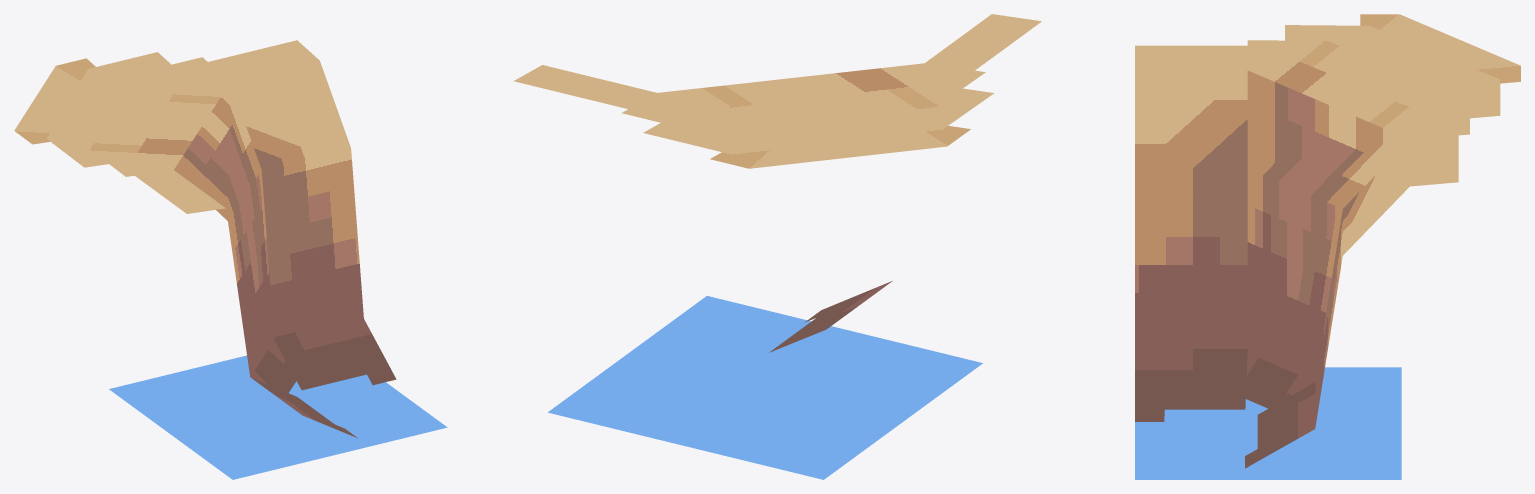
3 renders of one model, left to right at view 1: azimuth 30°, elevation 25°; view 2: azimuth 150°, elevation 25°; view 3: azimuth 270°, elevation 25°, orthographic. The views are drawn at different scales.
Bounding box in the file's own units: 0.7236 × 0.627 × 0.7236.
2 materials, 2 textured.
